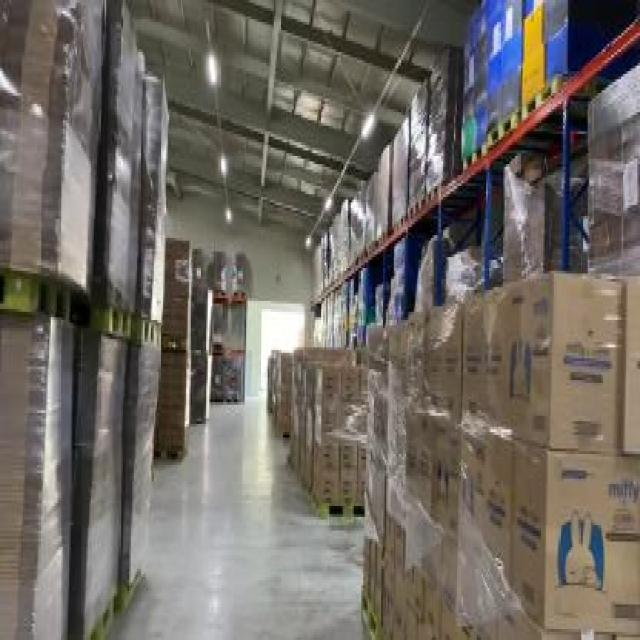box: (360, 276, 638, 638), (2, 0, 152, 635), (286, 344, 377, 528), (463, 5, 565, 156), (366, 41, 454, 208), (146, 230, 194, 459), (263, 344, 308, 446), (314, 271, 368, 350), (188, 287, 215, 421), (332, 183, 374, 263), (183, 244, 248, 292)
